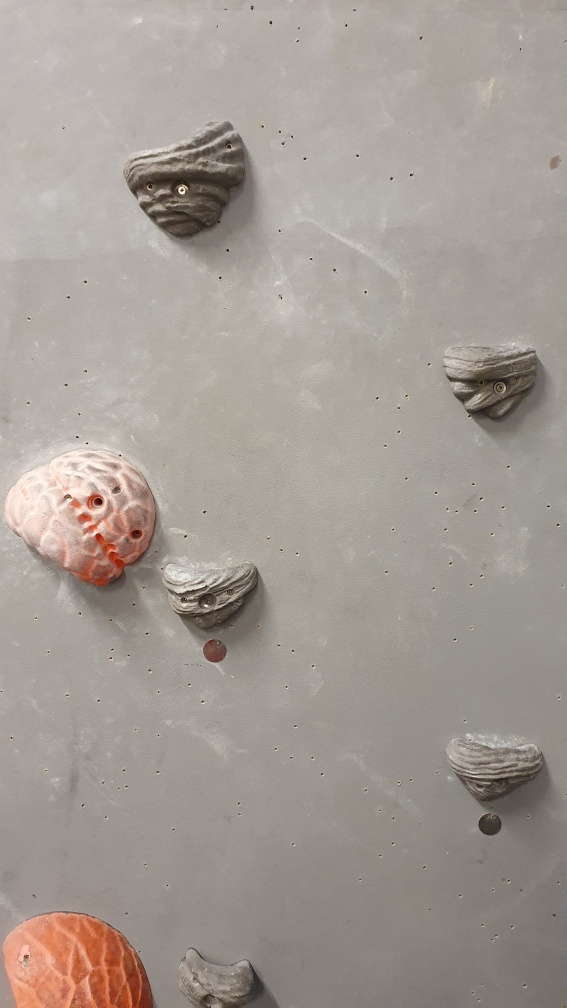Hand Start: (201, 635, 229, 665), (475, 811, 504, 838)
Jug: (119, 118, 253, 244), (439, 340, 543, 425), (447, 727, 549, 806), (162, 561, 262, 634), (173, 946, 262, 1008)
